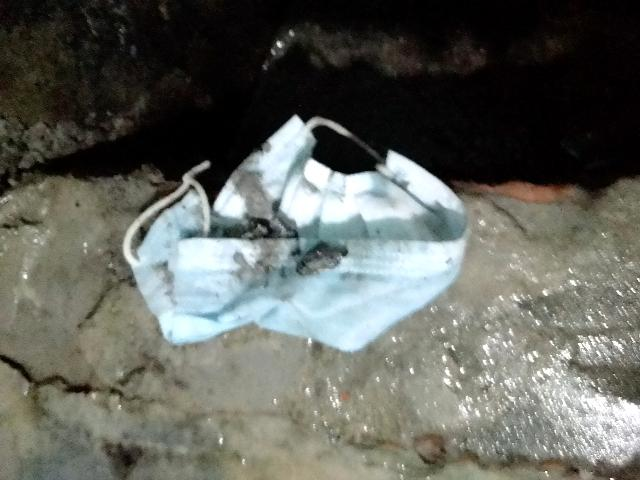mask: (140, 134, 452, 354)
